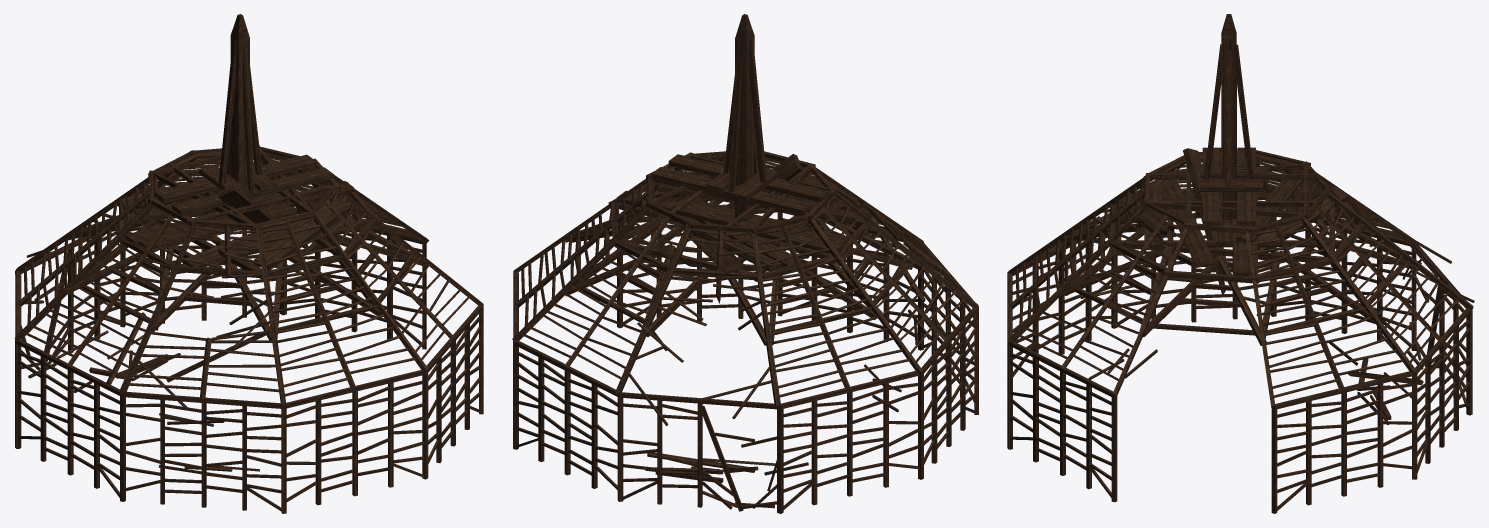
The model's file is P_Boss_Floor02.fbx.
3 views of the same model, side by side, from view 1: azimuth 30°, elevation 25°; view 2: azimuth 150°, elevation 25°; view 3: azimuth 270°, elevation 25° (orthographic).
Parts seen in each view (by area): view 1: P_Boss_Floor02; view 2: P_Boss_Floor02; view 3: P_Boss_Floor02.
Boxes of the visible parts, x1,y1,x2,y2 form: P_Boss_Floor02: (14, 14, 483, 513); P_Boss_Floor02: (512, 14, 978, 513); P_Boss_Floor02: (1007, 14, 1474, 513).
Size of the model in its own units: 8832 by 8270 by 8737.
